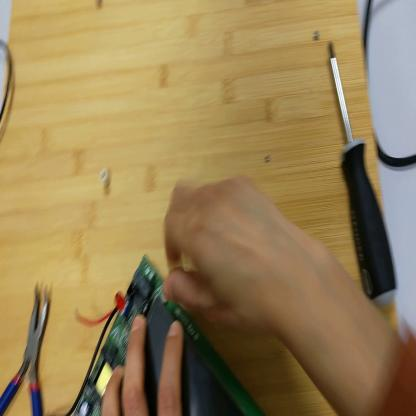hand: (166, 178, 311, 346), (101, 308, 188, 414)
low voltage board: (72, 252, 269, 416)
pliers: (2, 281, 60, 414)
screwdriver-: (329, 43, 399, 313)
working area: (2, 1, 401, 416)
